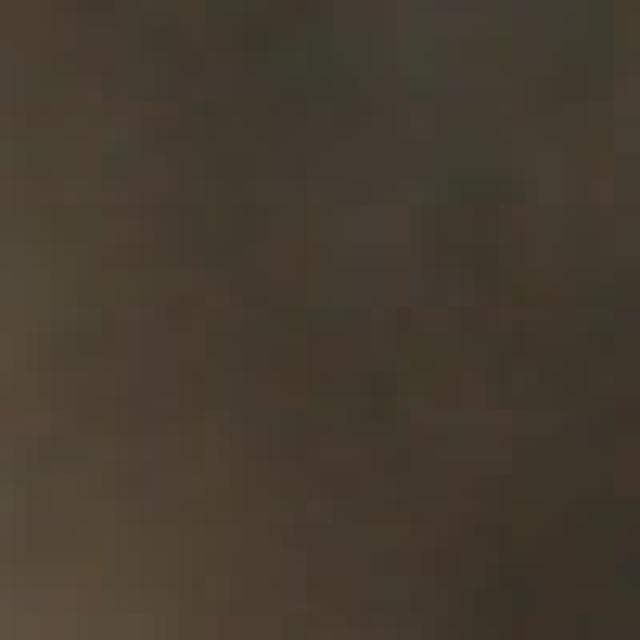fire: (6, 36, 624, 640)
